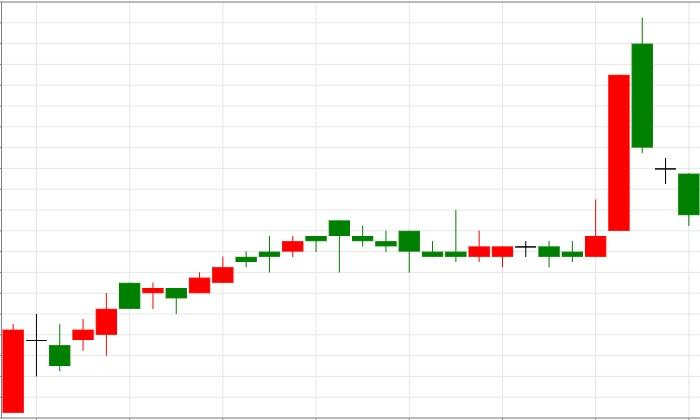inverse_hammer_rise: (328, 199, 607, 272)
